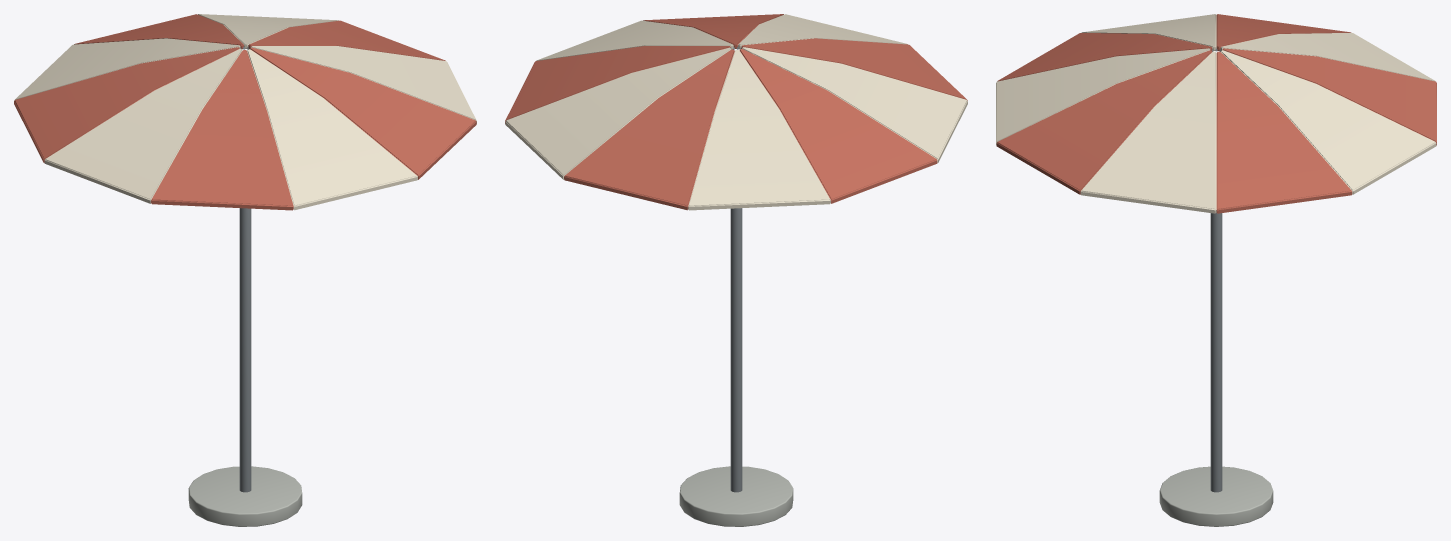
File: StreetUmbrella.glb
3 renders of one model, left to right at view 1: azimuth 30°, elevation 25°; view 2: azimuth 150°, elevation 25°; view 3: azimuth 270°, elevation 25°, orthographic.
Parts seen in each view (by area): view 1: ST_StreetUmbrella_ST_red.001, ST_StreetUmbrella_ST_cream.001, ST_Umbrella_Base.001, ST_StreetUmbrella_PBK_Indochine_metal.001; view 2: ST_StreetUmbrella_ST_cream.001, ST_StreetUmbrella_ST_red.001, ST_Umbrella_Base.001, ST_StreetUmbrella_PBK_Indochine_metal.001; view 3: ST_StreetUmbrella_ST_cream.001, ST_StreetUmbrella_ST_red.001, ST_Umbrella_Base.001, ST_StreetUmbrella_PBK_Indochine_metal.001.
Part boxes in pixels (left/top/right/bottom): ST_StreetUmbrella_ST_red.001: left=14, top=14, right=476, bottom=210; ST_StreetUmbrella_ST_cream.001: left=14, top=14, right=476, bottom=210; ST_Umbrella_Base.001: left=188, top=466, right=302, bottom=526; ST_StreetUmbrella_PBK_Indochine_metal.001: left=239, top=47, right=251, bottom=492; ST_StreetUmbrella_ST_cream.001: left=505, top=14, right=967, bottom=210; ST_StreetUmbrella_ST_red.001: left=505, top=14, right=967, bottom=210; ST_Umbrella_Base.001: left=679, top=466, right=793, bottom=526; ST_StreetUmbrella_PBK_Indochine_metal.001: left=730, top=47, right=742, bottom=492; ST_StreetUmbrella_ST_cream.001: left=996, top=14, right=1436, bottom=213; ST_StreetUmbrella_ST_red.001: left=996, top=14, right=1436, bottom=213; ST_Umbrella_Base.001: left=1159, top=466, right=1273, bottom=526; ST_StreetUmbrella_PBK_Indochine_metal.001: left=1210, top=48, right=1222, bottom=492.
Bounding box in the file's own units: 2.2 × 2.38 × 2.09.
